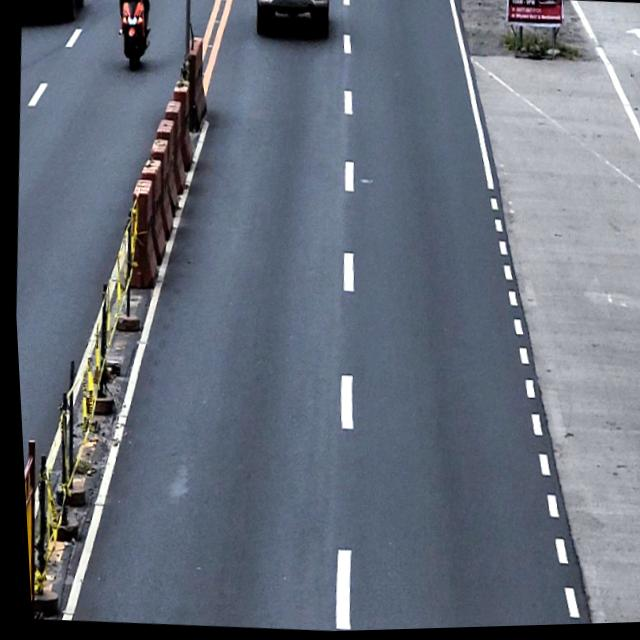Car: (253, 0, 332, 40)
Motorcycle: (112, 0, 155, 72)
